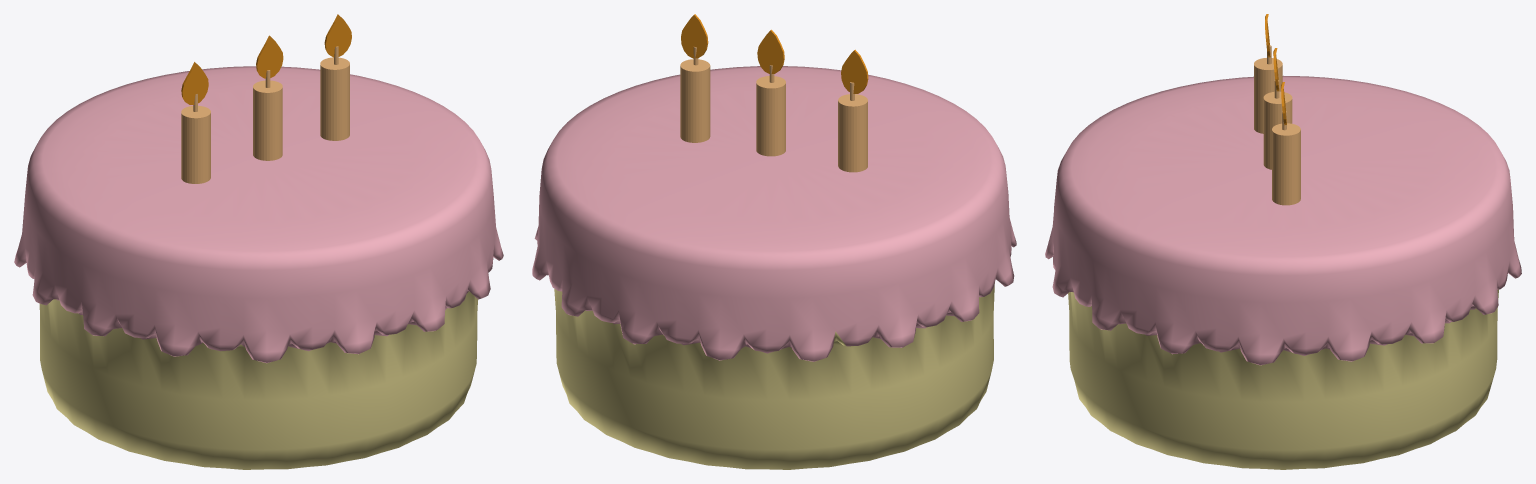
File: Cake.fbx
3 views of the same model, side by side, from view 1: azimuth 30°, elevation 25°; view 2: azimuth 150°, elevation 25°; view 3: azimuth 270°, elevation 25° (orthographic). The views are drawn at different scales.
Visible parts, largest first — view 1: Cylinder; view 2: Cylinder; view 3: Cylinder.
Boxes of the visible parts, bbox=[...] form: Cylinder: bbox=[14, 14, 503, 469]; Cylinder: bbox=[532, 14, 1016, 469]; Cylinder: bbox=[1045, 14, 1521, 469].
Size of the model in its own units: 222 by 176 by 222.
